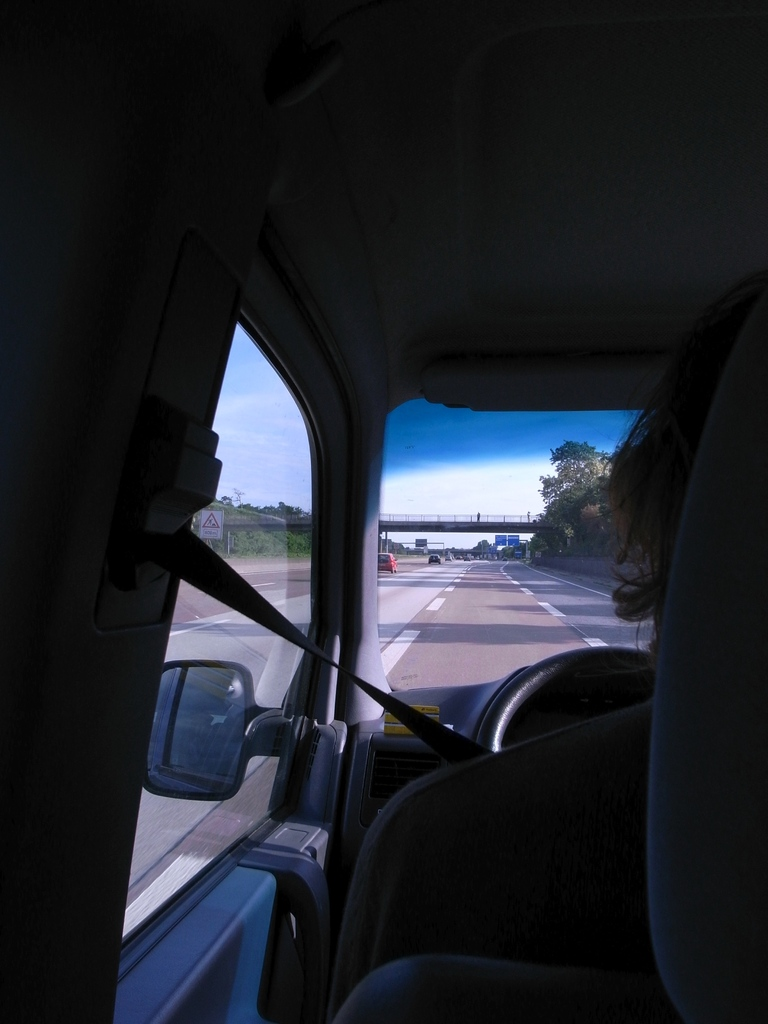Car: (0, 0, 767, 1023), (378, 554, 398, 578), (430, 555, 442, 564)
